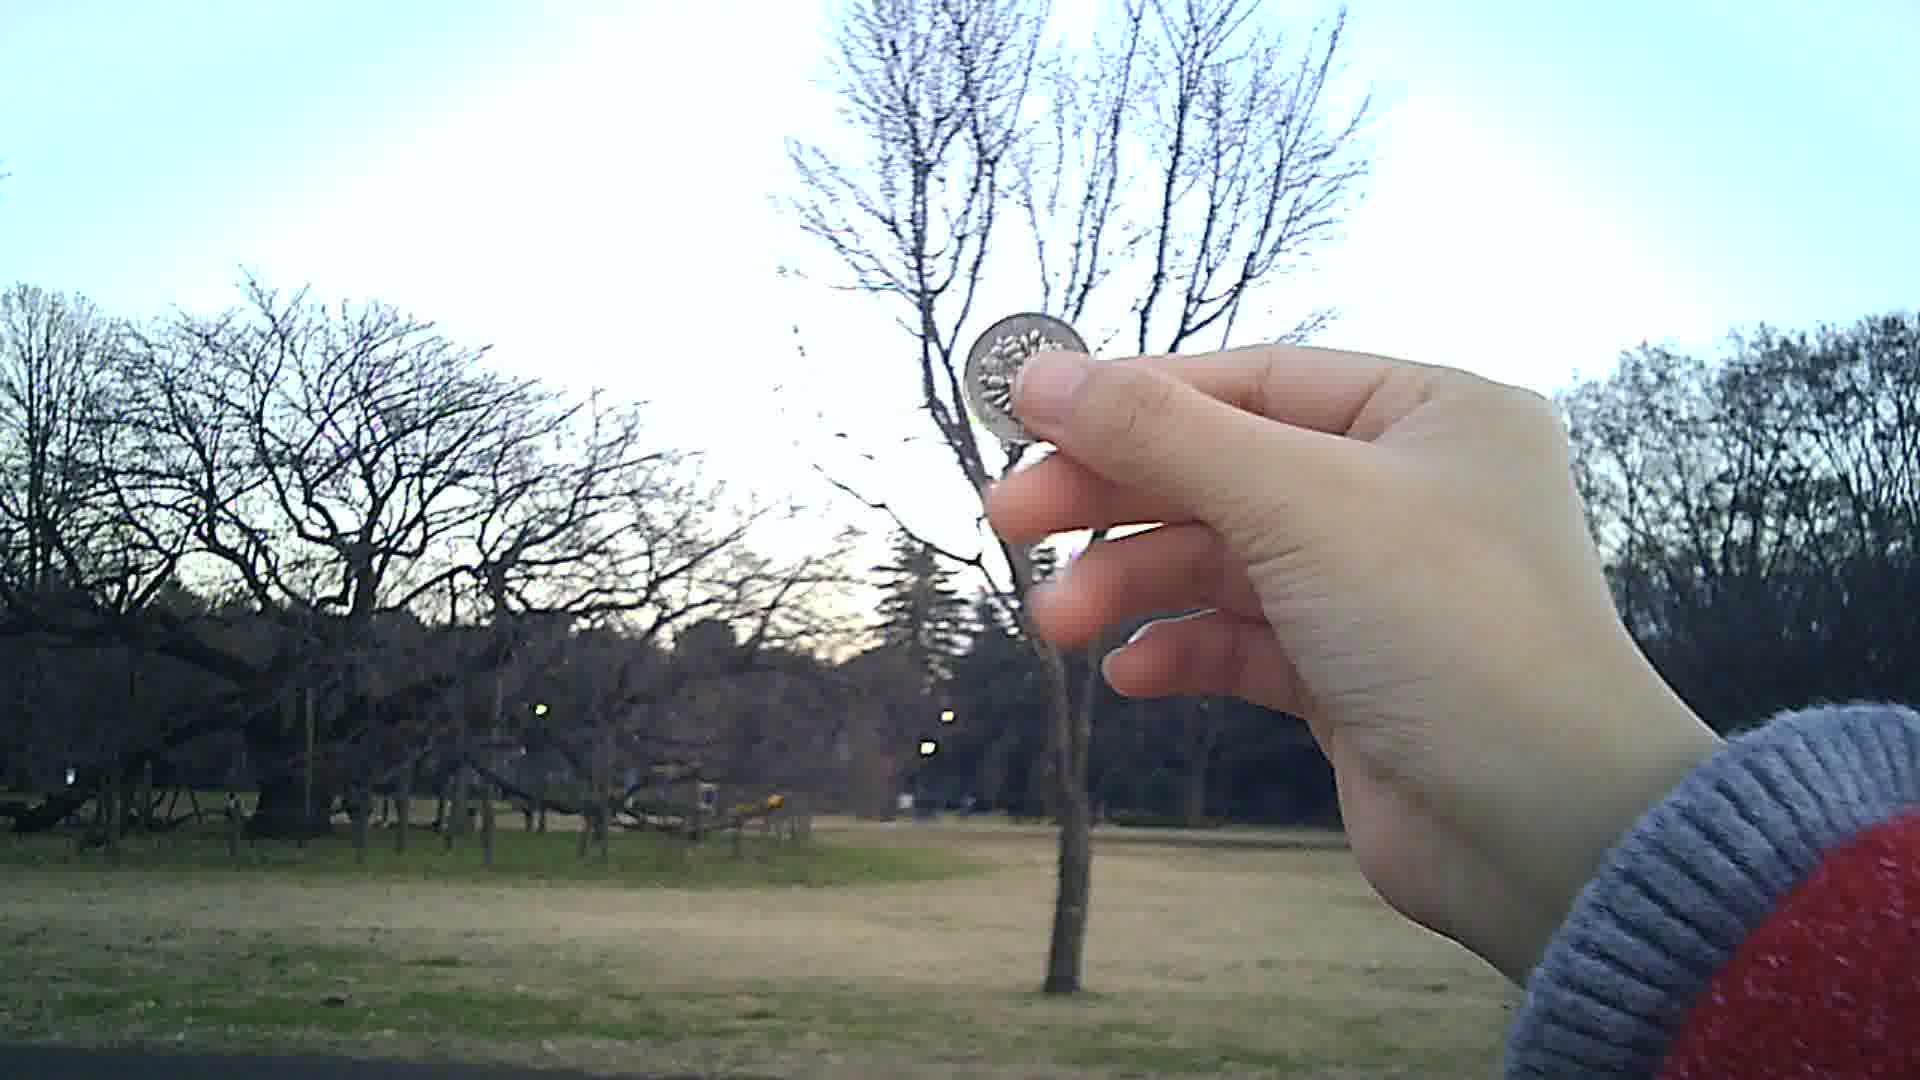100 Yen: (956, 315, 1110, 443)
